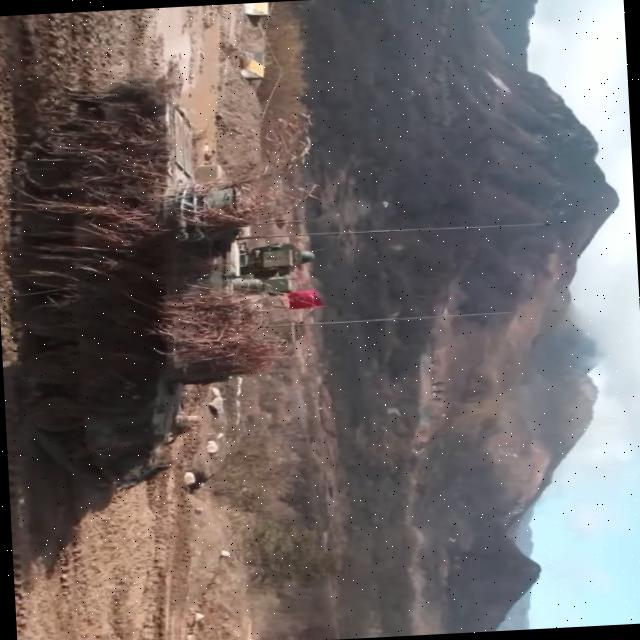korea tank: (0, 69, 329, 494)
